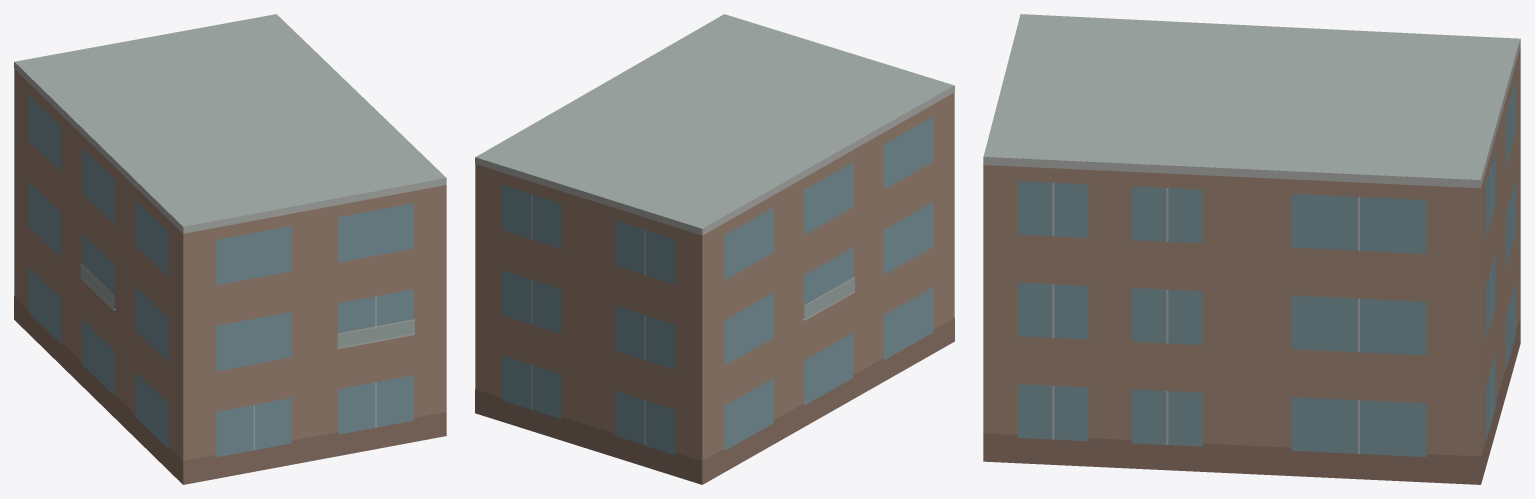
Rendered from survey-upis-32879842.glb.
3 renders of one model, left to right at view 1: azimuth 30°, elevation 25°; view 2: azimuth 150°, elevation 25°; view 3: azimuth 270°, elevation 25°, orthographic. The views are drawn at different scales.
Visible parts, largest first — view 1: survey-upis-32879842.tmp; view 2: survey-upis-32879842.tmp; view 3: survey-upis-32879842.tmp.
Boxes of the visible parts, bbox=[...] form: survey-upis-32879842.tmp: bbox=[14, 14, 446, 484]; survey-upis-32879842.tmp: bbox=[475, 14, 954, 484]; survey-upis-32879842.tmp: bbox=[983, 14, 1520, 484].
Bounding box in the file's own units: 10.71 × 9.15 × 14.63.
